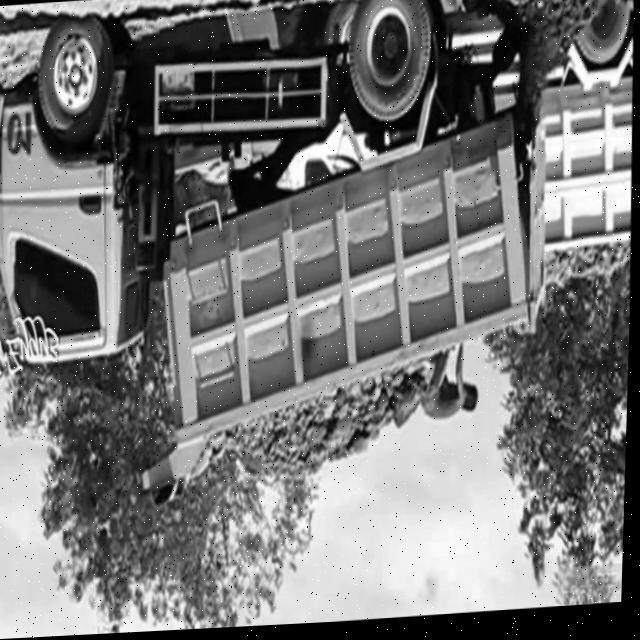truck: (1, 30, 180, 404)
